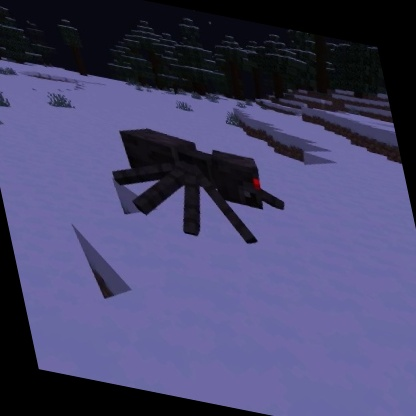spider: (96, 114, 301, 261)
